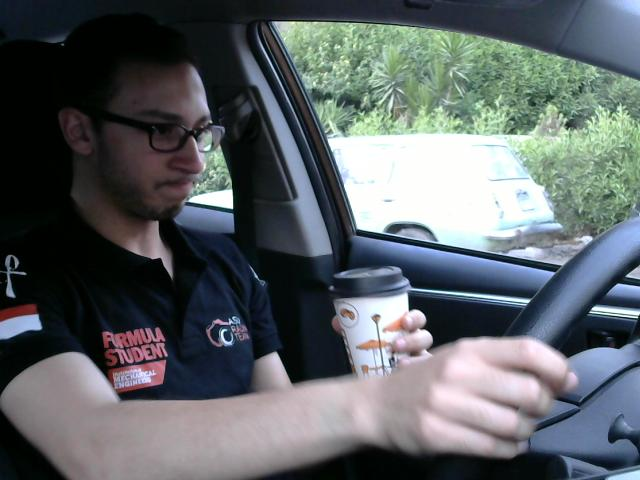Drinking: (324, 260, 424, 388)
